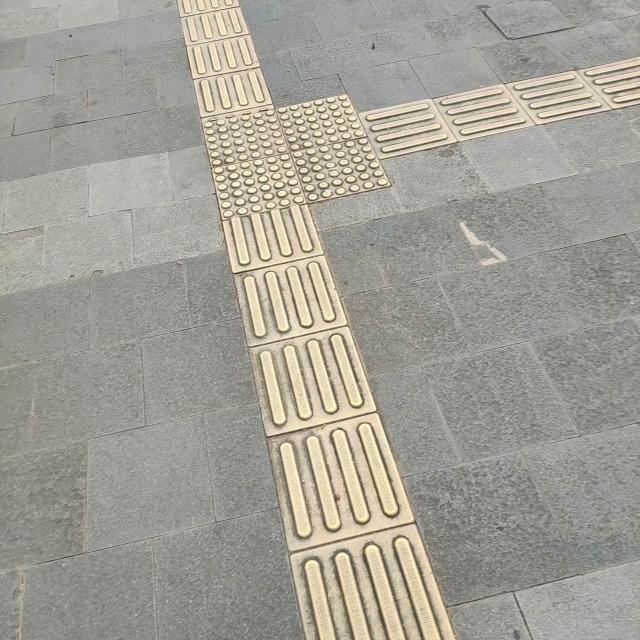lurus: (223, 192, 404, 640), (160, 0, 274, 114)
